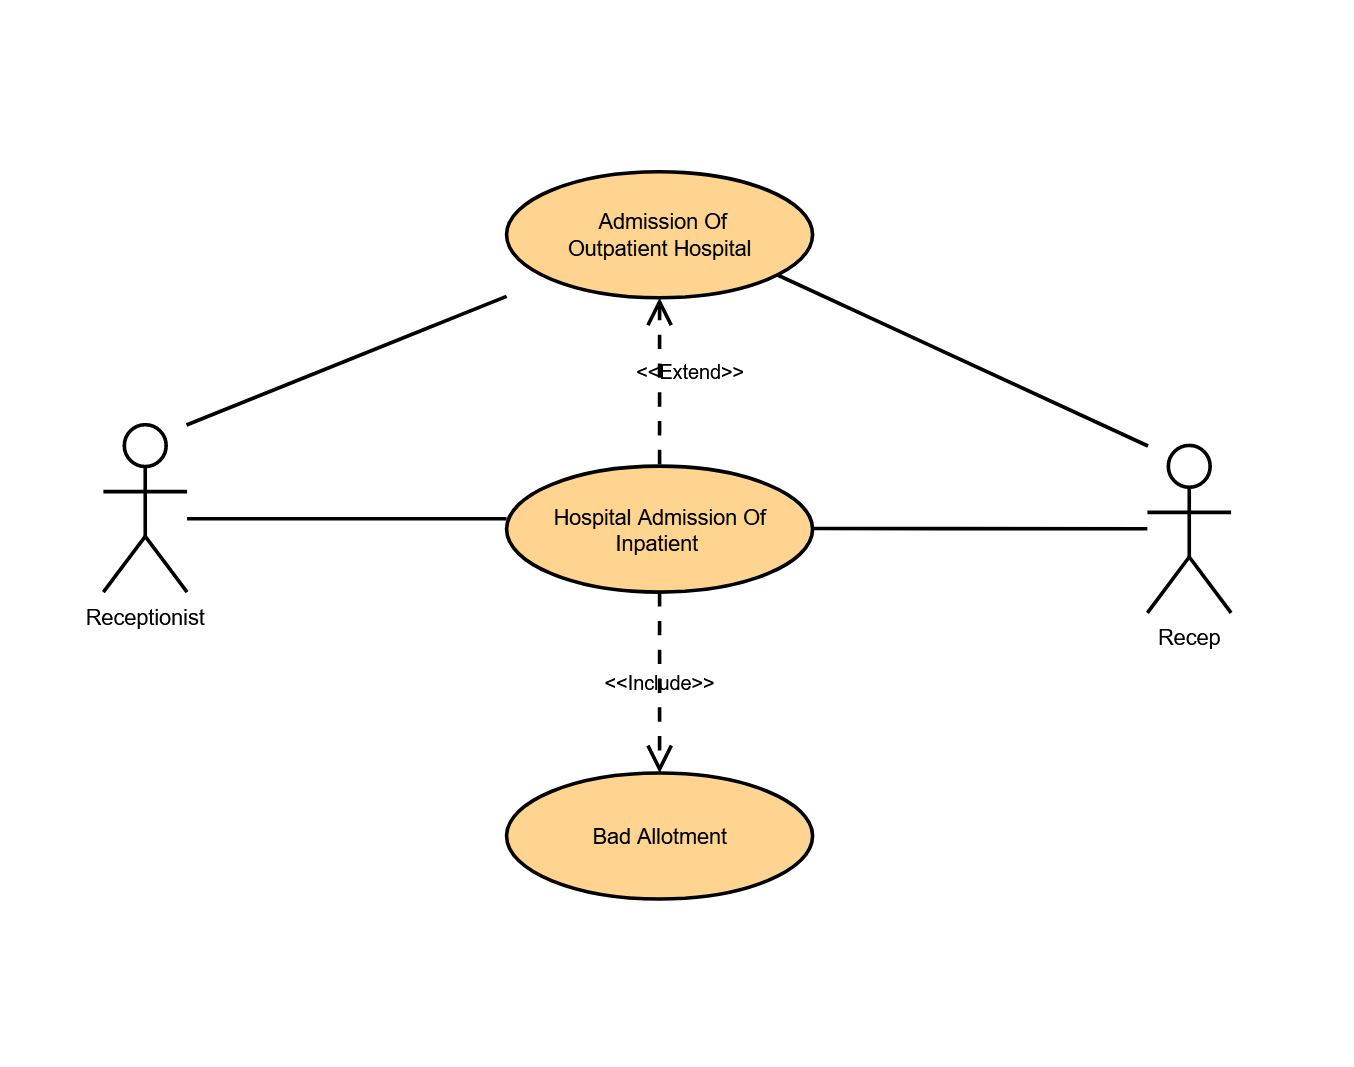actor: (97, 419, 193, 600), (1148, 442, 1233, 622)
association: (783, 276, 1143, 444), (186, 294, 510, 425), (815, 504, 1151, 551), (187, 493, 508, 538), (639, 596, 682, 769), (642, 298, 675, 463)
text: (551, 497, 775, 562), (565, 202, 764, 263), (581, 816, 746, 856), (586, 655, 724, 701), (78, 602, 210, 635), (632, 357, 748, 382), (1148, 627, 1227, 651)
use_case: (504, 463, 815, 596), (503, 770, 813, 903), (504, 170, 814, 301)
